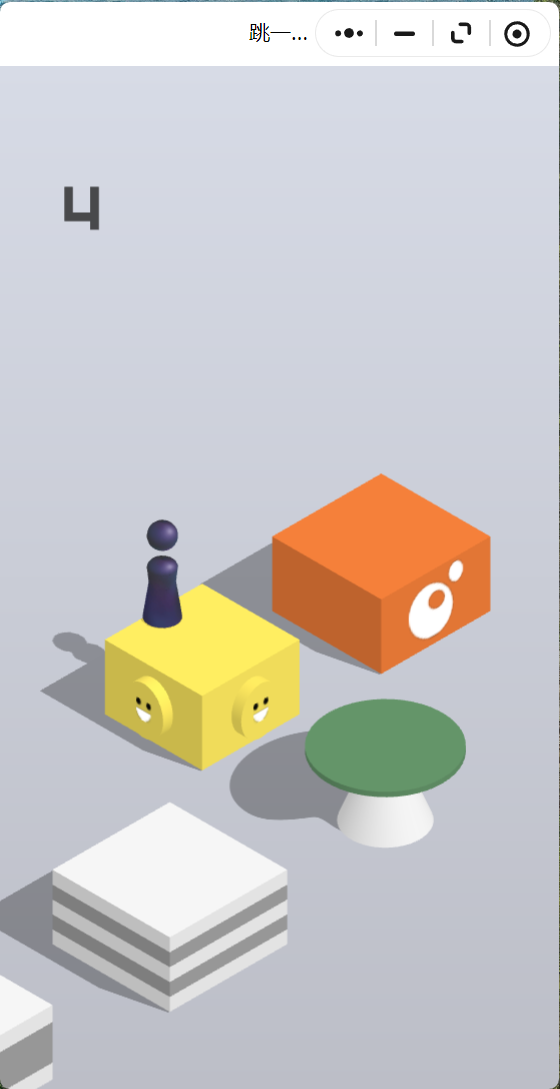piece: (146, 520, 178, 625)
target: (273, 473, 491, 600)
